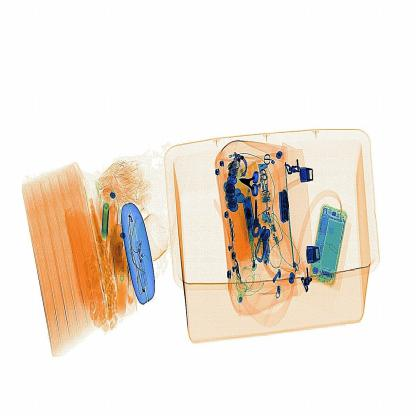gun: (234, 163, 265, 201)
